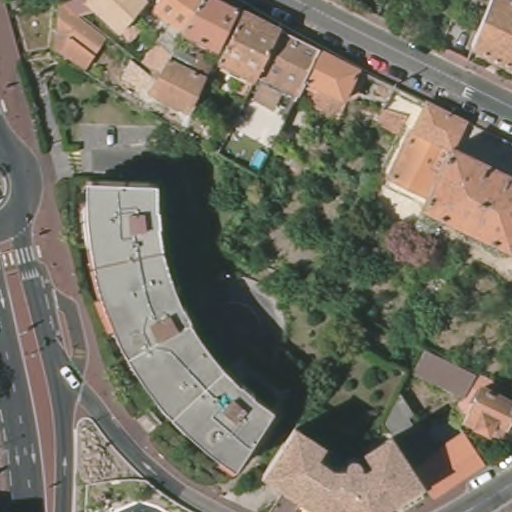pool: (247, 147, 269, 173)
